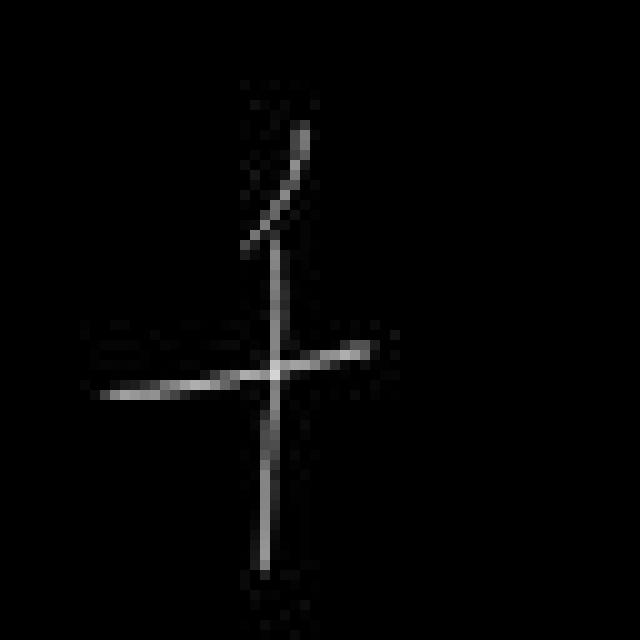1000 -a thousand-: (100, 112, 376, 584)
